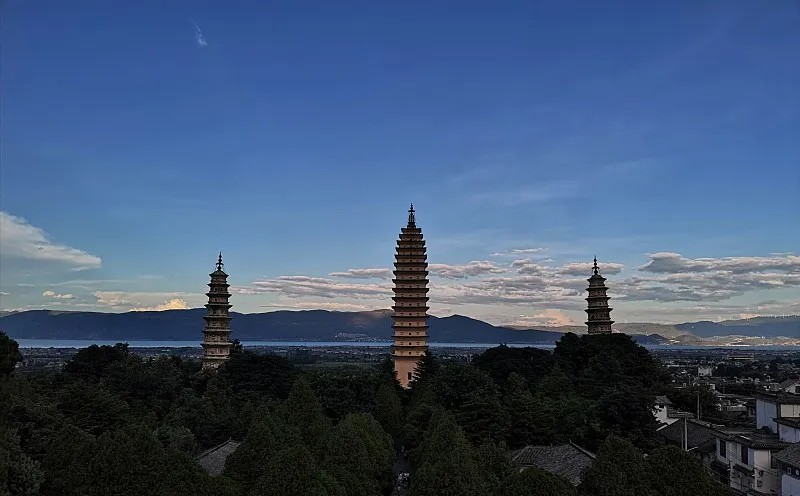ThreePagoda: (391, 202, 429, 386)
